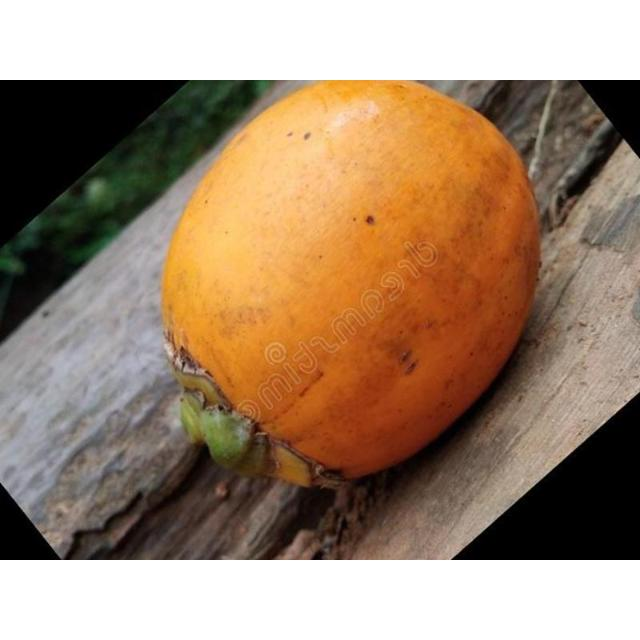good: (158, 80, 541, 490)
